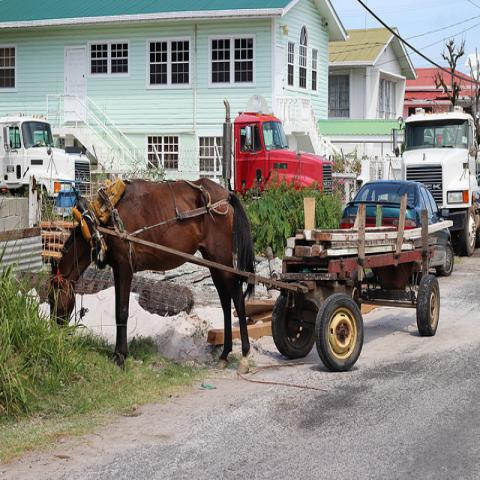car: (341, 178, 455, 277)
truck: (400, 107, 479, 254), (234, 113, 336, 199), (0, 110, 89, 205)
